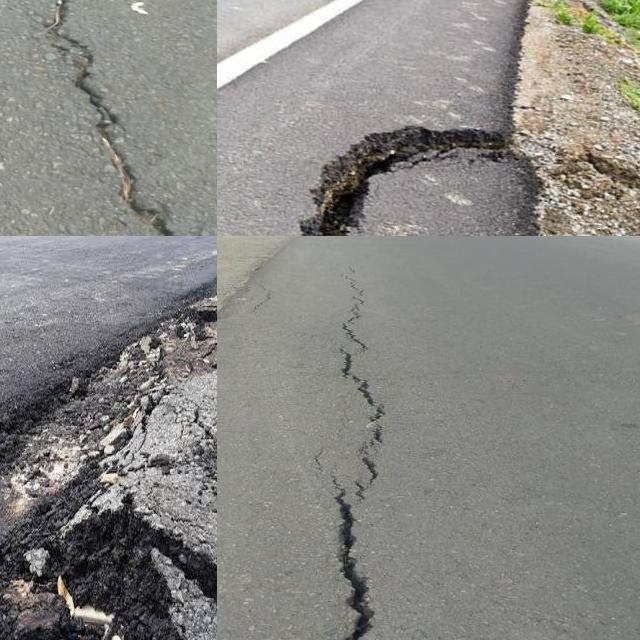Memanjang: (33, 0, 217, 236), (322, 269, 396, 640)
Pinggir: (0, 268, 217, 640), (267, 120, 536, 236)
